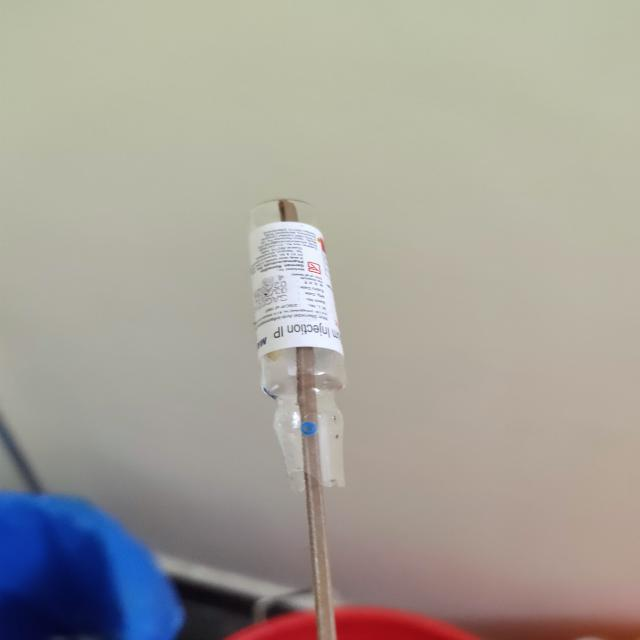B3: (248, 188, 348, 490)
